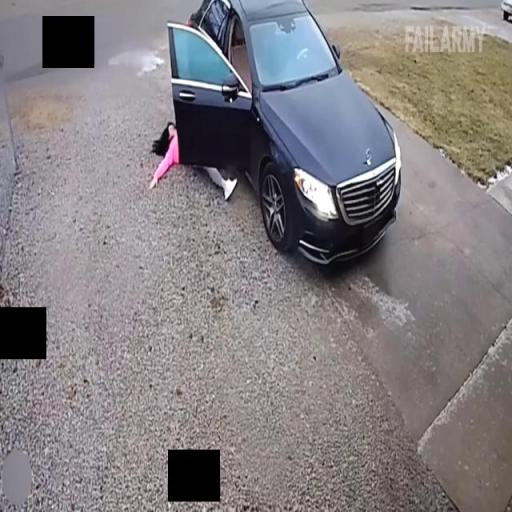Fall: (149, 122, 240, 207)
